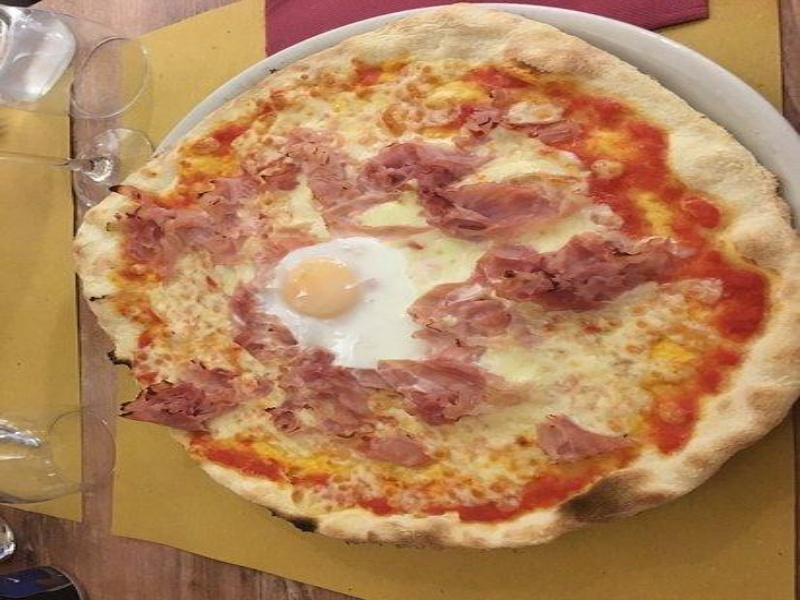oeuf: (274, 255, 389, 342)
